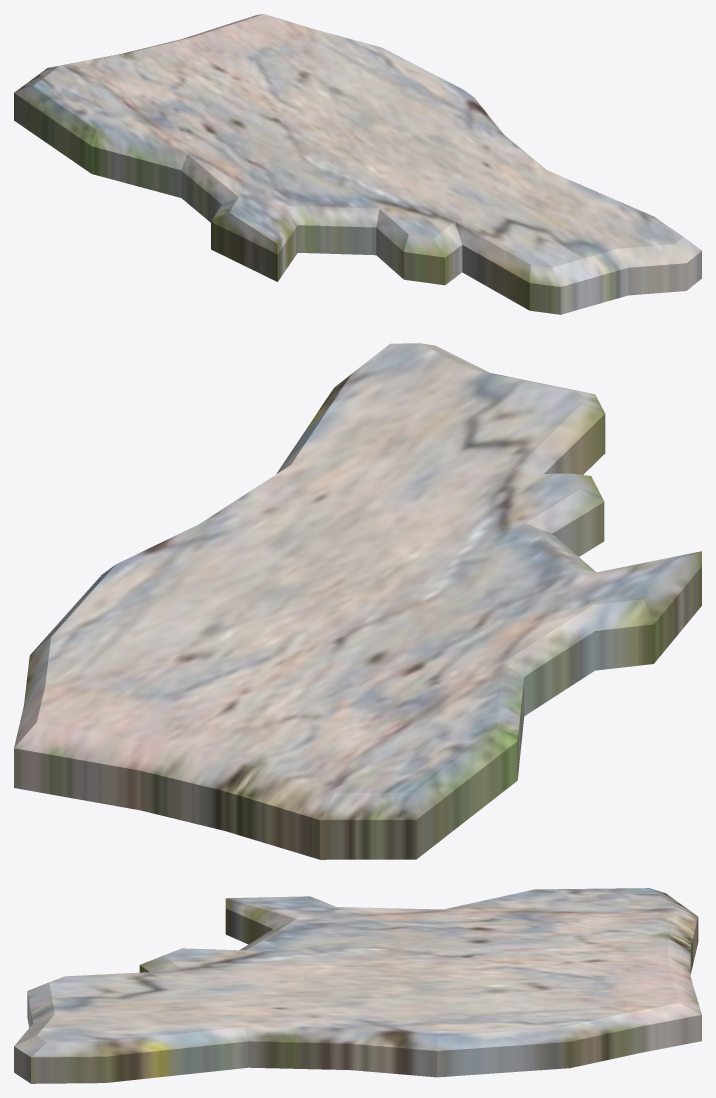
File: stone.02.fbx
3 views of the same model, one above another, from view 1: azimuth 30°, elevation 25°; view 2: azimuth 150°, elevation 25°; view 3: azimuth 270°, elevation 25° (orthographic). The views are drawn at different scales.
Visible parts, largest first — view 1: stone.02; view 2: stone.02; view 3: stone.02.
Part boxes in pixels (bbox=[...]): stone.02: bbox=[14, 14, 701, 314]; stone.02: bbox=[14, 343, 701, 859]; stone.02: bbox=[14, 888, 701, 1083].
Bounding box in the file's own units: 94.66 × 9.74 × 168.
Materials: 1 (1 with a texture image).
